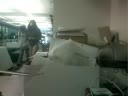window: (10, 3, 18, 36), (90, 13, 97, 44), (53, 9, 60, 39), (82, 12, 89, 42), (64, 11, 70, 39), (25, 4, 29, 18)
